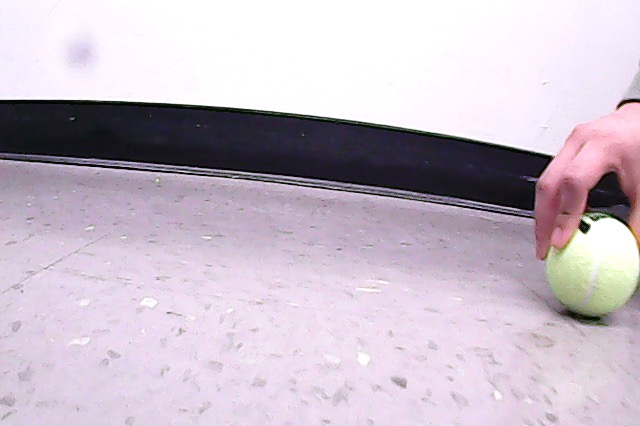ball: (546, 211, 640, 318)
